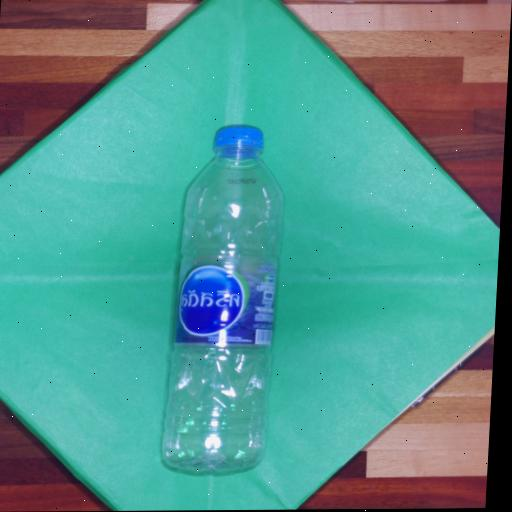bottle: (162, 126, 282, 468)
